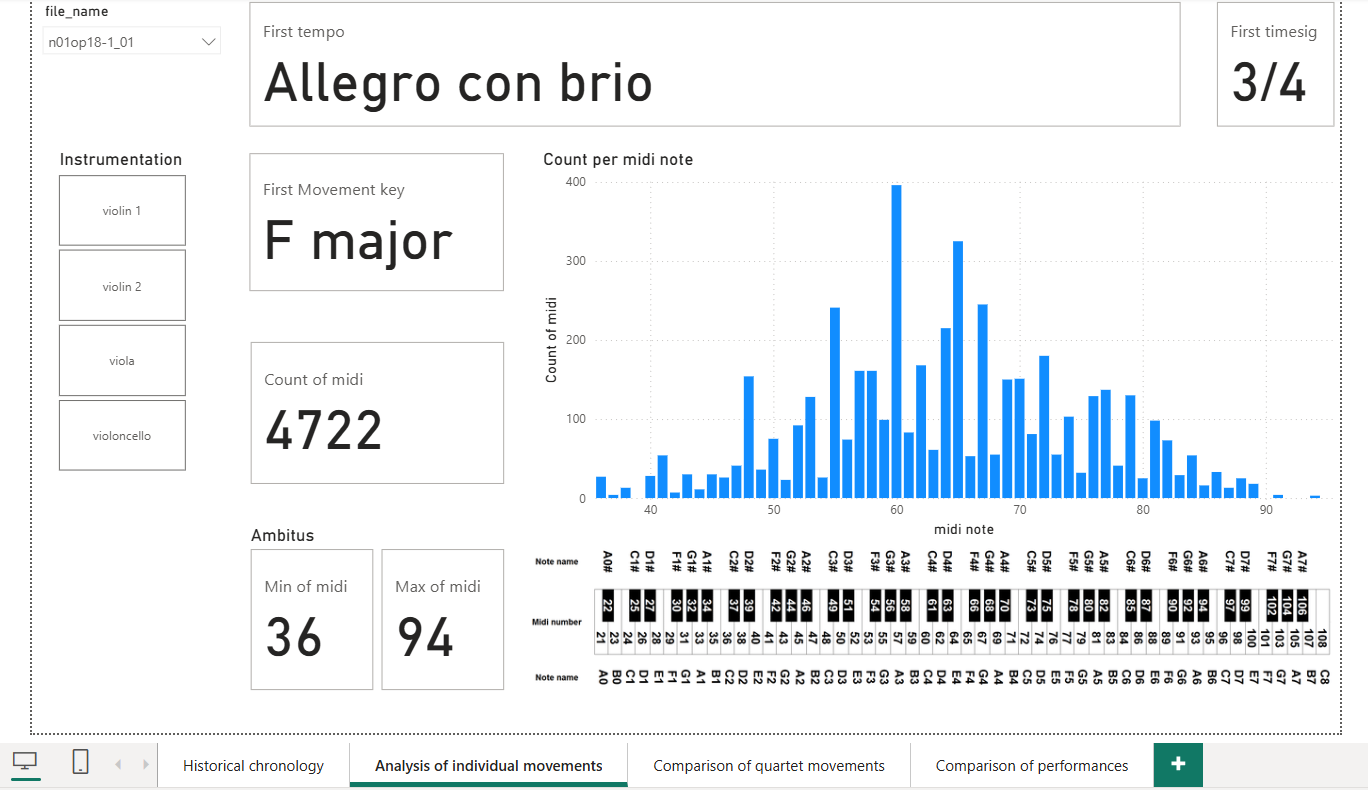

This screenshot's page, from the dashboard's own definition file:
{"tool":"powerbi","page":{"name":"Analysis of individual movements","canvas":[1280,720],"ordinal":1},"visuals":[{"type":"columnChart","title":"Count per midi note","fields":{"Y":["CountNonNull(appended_movements.midi)"],"Category":["appended_movements.midi"]},"box":[495.6,148.1,784.9,386.2],"z":0},{"type":"slicer","fields":{"Values":["annotated_beethoven_corpus_overview.file_name"]},"box":[0,0,195.1,91.2],"z":1000},{"type":"cardVisual","fields":{"Data":["Min(appended_movements.timesig)"]},"box":[1154.2,0,125.8,132.2],"z":2000},{"type":"slicer","title":"Instrumentation","fields":{"Values":["appended_movements.staff"]},"box":[0,148.1,174.3,322.4],"z":3000},{"type":"cardVisual","fields":{"Data":["Min(beethoven_string_quartets.Movement key)"]},"box":[208,147.6,259.3,145.1],"z":4000},{"type":"cardVisual","fields":{"Data":["Min(beethoven_string_quartets.tempo)"]},"box":[208,0,921.8,132.2],"z":5000},{"type":"cardVisual","title":"Amount o","fields":{"Data":["CountNonNull(appended_movements.midi)"]},"box":[209.6,332.7,258.6,149.2],"z":6000},{"type":"cardVisual","title":"Ambitus","fields":{"Data":["Min(appended_movements.midi)1","Max(appended_movements.midi)"]},"box":[209.6,516.1,258.6,167.5],"z":7000},{"type":"image","box":[479.6,534.3,800.9,149.2],"z":8000}]}

Visuals, with their boxes on the page's 1280x720 design canvas (x1, y1, x2, y2). These are canvas units, not pixel positions in the 1368x790 screenshot, which may show the page scaled, cropped or inside an application window:
"Count per midi note" columnChart: crop(496, 148, 1280, 534)
slicer - annotated_beethoven_corpus_overview.file_name: crop(0, 0, 195, 91)
cardVisual - Min(appended_movements.timesig): crop(1154, 0, 1280, 132)
"Instrumentation" slicer: crop(0, 148, 174, 470)
cardVisual - Min(beethoven_string_quartets.Movement key): crop(208, 148, 467, 293)
cardVisual - Min(beethoven_string_quartets.tempo): crop(208, 0, 1130, 132)
"Amount o" cardVisual: crop(210, 333, 468, 482)
"Ambitus" cardVisual: crop(210, 516, 468, 684)
image: crop(480, 534, 1280, 684)
